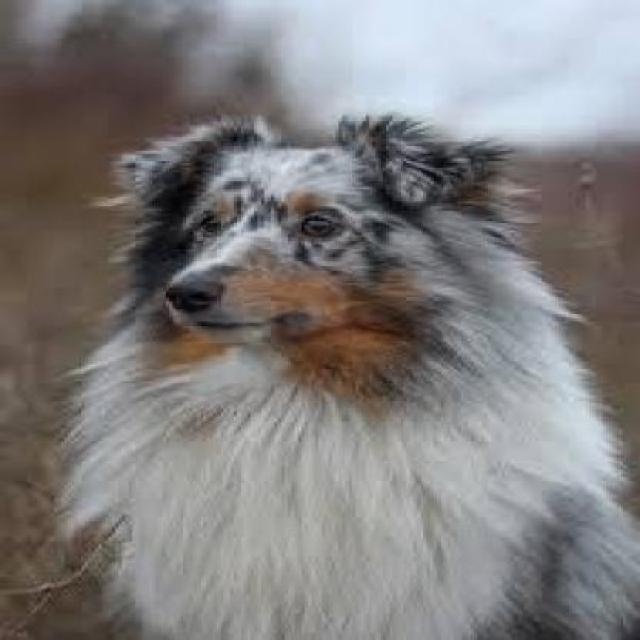animals: (73, 108, 629, 640)
